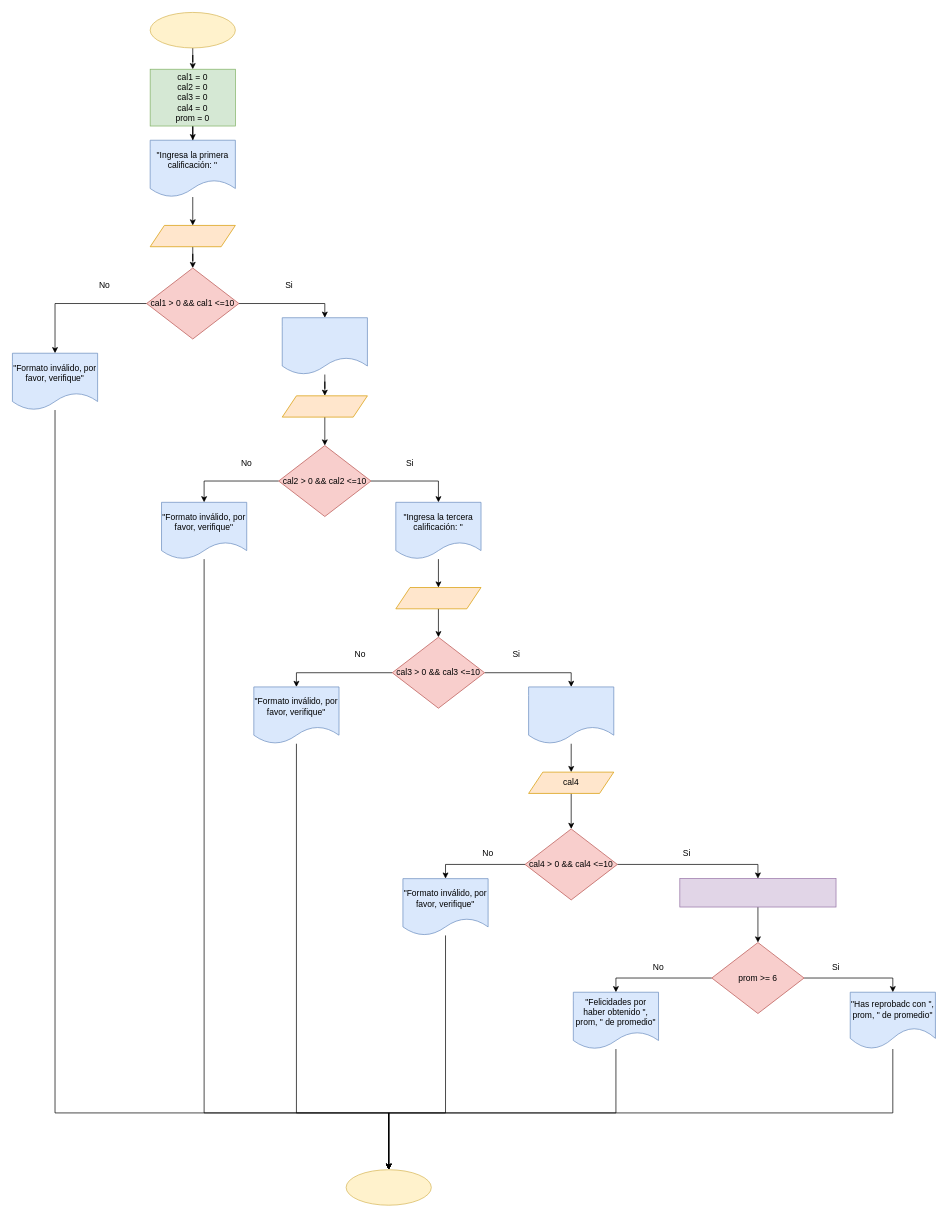
Image size: 948x1218. Some labels were removed from this diagram. The centre of each missing label's shape, as x and y in pixels:
"Ingresa la cuarta calificación: ": (x=571, y=715)
"Ingresa la segunda calificación: ": (x=324, y=346)
cal1: (x=192, y=236)
cal2: (x=324, y=406)
cal3: (x=438, y=598)
Fin: (x=388, y=1187)
Inicio: (x=192, y=30)
prom = (cal1 + cal2 + cal3 + cal4) / 4: (x=757, y=892)
